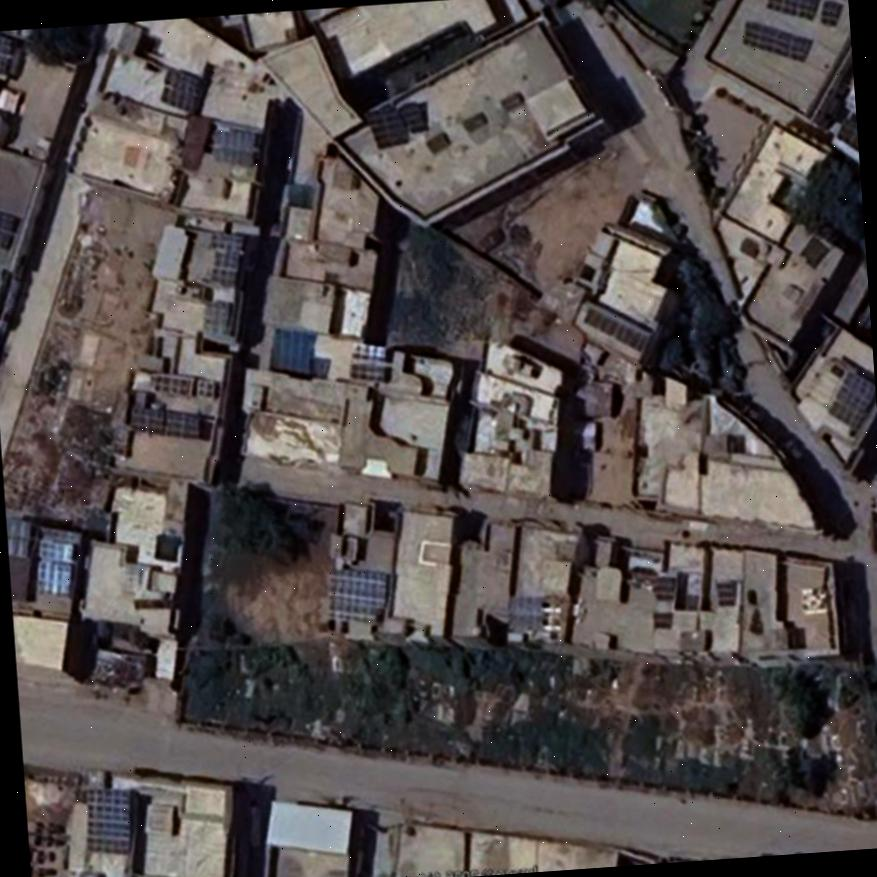Solarpanel: (85, 787, 131, 849), (826, 370, 874, 427), (743, 20, 810, 58), (330, 571, 384, 618), (130, 406, 198, 436), (34, 541, 73, 593), (206, 234, 242, 284), (364, 105, 407, 145), (163, 67, 198, 112), (765, 0, 814, 20), (398, 103, 427, 132), (0, 209, 15, 246), (820, 0, 841, 24), (0, 35, 10, 69)
